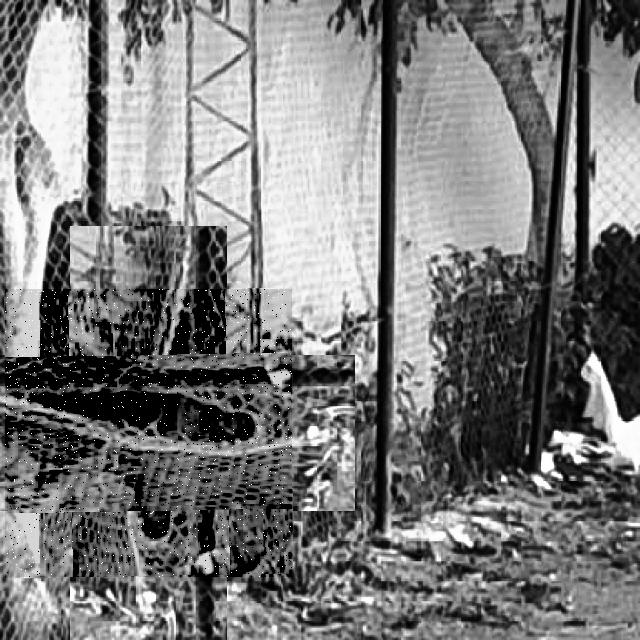anomaly-fence: (5, 289, 292, 577)
